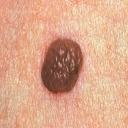Melanoma: (37, 37, 88, 95)
